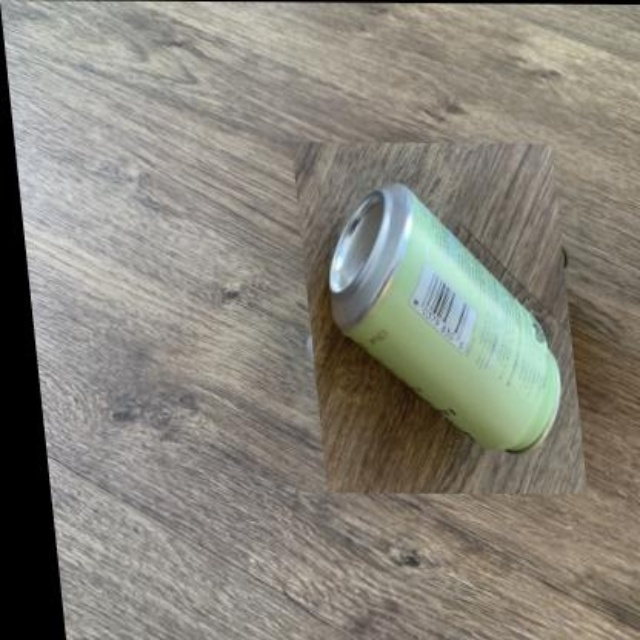trash: (329, 185, 560, 451)
